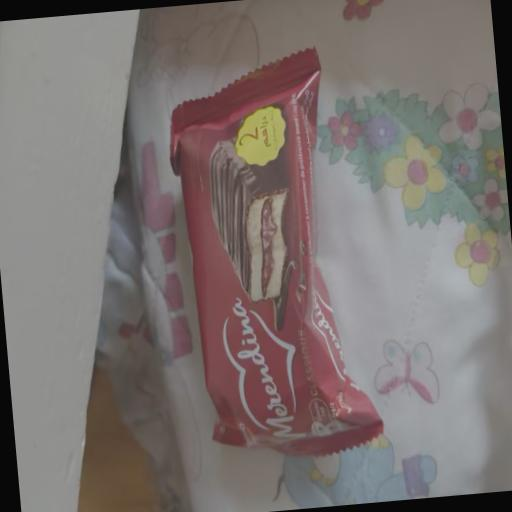merendina: (148, 32, 410, 487)
